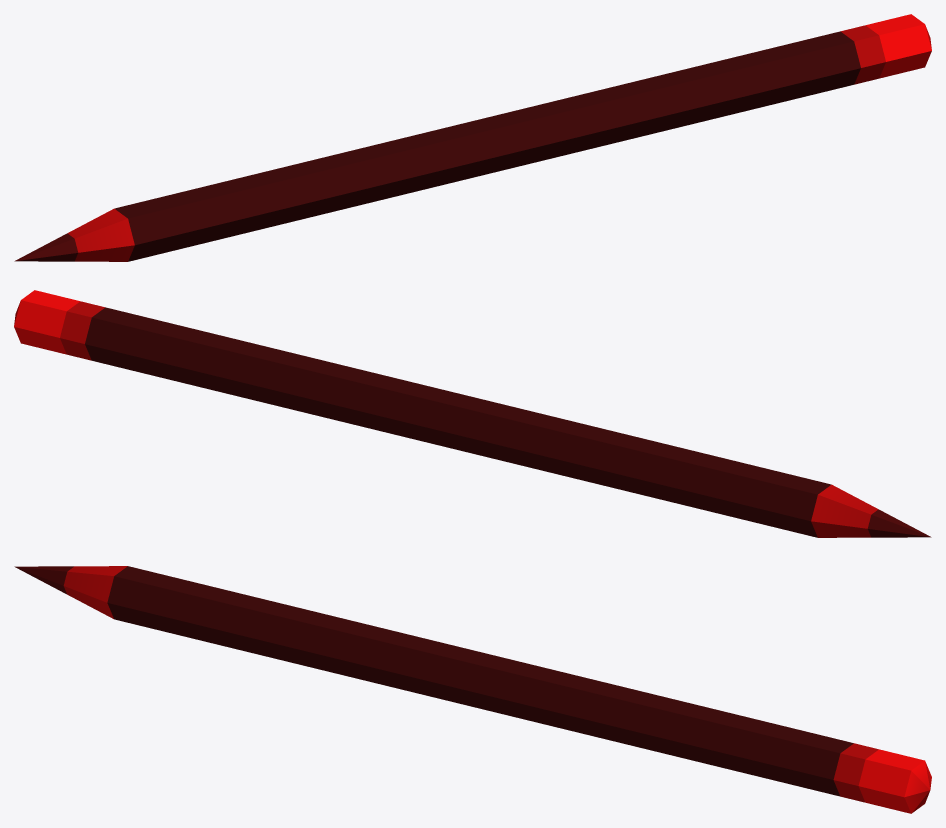
The model's file is Pencil.002.glb.
The picture shows the model from 3 angles, top to bottom: view 1: azimuth 30°, elevation 25°; view 2: azimuth 150°, elevation 25°; view 3: azimuth 330°, elevation 25°; orthographic projection.
Visible parts, largest first — view 1: Pencil.002; view 2: Pencil.002; view 3: Pencil.002.
Boxes of the visible parts, x1,y1,x2,y2 form: Pencil.002: (14, 14, 931, 261); Pencil.002: (14, 290, 931, 537); Pencil.002: (14, 566, 931, 813).
Bounding box in the file's own units: 1.29 × 0.0583 × 0.0673.
